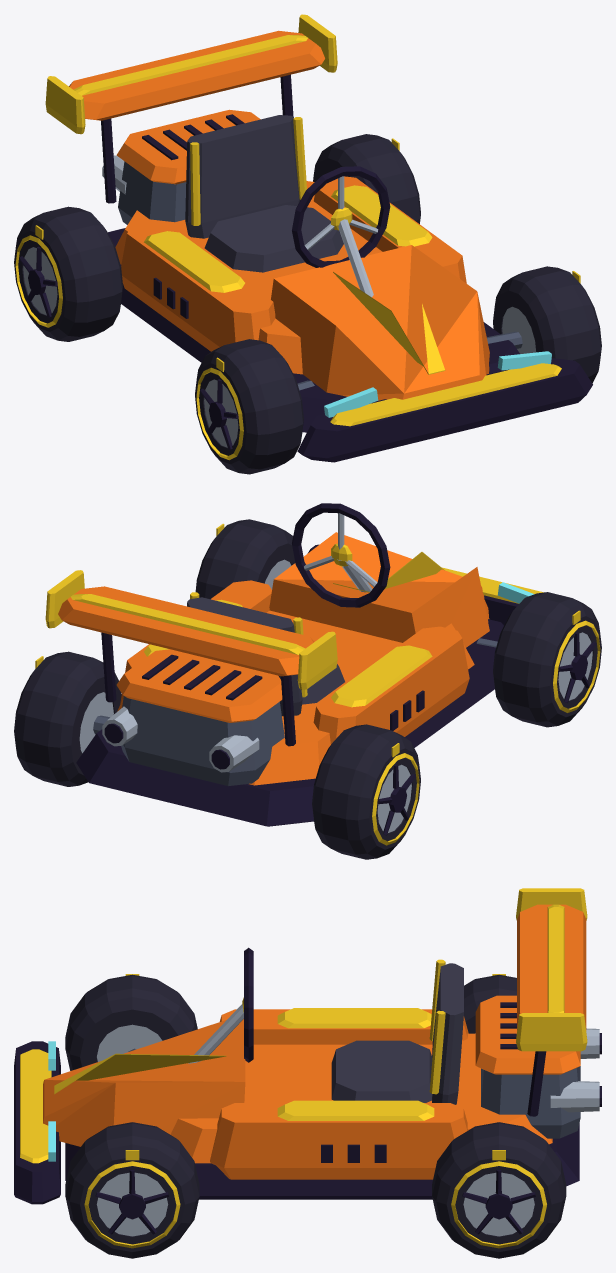
The model's file is kart.glb.
3 views of the same model, one above another, from view 1: azimuth 30°, elevation 25°; view 2: azimuth 150°, elevation 25°; view 3: azimuth 270°, elevation 25° (orthographic).
Parts seen in each view (by area): view 1: surface_paint, surface_accent (×3), surface_chassis (×3), surface_seat_fabric, wheel_rr, wheel_fr, wheel_fl, wheel_rl, surface_engine, steering_wheel, surface_alloy (×2), surface_lamp; view 2: surface_paint, surface_chassis (×3), surface_accent (×3), wheel_fr, wheel_rr, wheel_rl, surface_engine, wheel_fl, steering_wheel, surface_alloy (×2), surface_seat_fabric; view 3: surface_paint, surface_accent (×3), surface_chassis (×3), wheel_rl, wheel_fl, surface_seat_fabric, wheel_fr, surface_engine, surface_alloy, wheel_rr, steering_wheel, surface_lamp.
Boxes of the visible parts, <box> form: surface_paint: <box>69,30,489,400</box>; surface_accent (×3): <box>15,14,561,460</box>; surface_chassis (×3): <box>19,74,592,462</box>; surface_seat_fabric: <box>185,115,343,272</box>; wheel_rr: <box>14,206,122,341</box>; wheel_fr: <box>195,339,303,474</box>; wheel_fl: <box>493,266,601,383</box>; wheel_rl: <box>313,134,420,223</box>; surface_engine: <box>118,161,522,390</box>; steering_wheel: <box>292,166,390,267</box>; surface_alloy (×2): <box>102,155,378,297</box>; surface_lamp: <box>324,351,551,417</box>; surface_paint: <box>58,532,489,785</box>; surface_chassis (×3): <box>76,544,596,835</box>; surface_accent (×3): <box>45,552,600,845</box>; wheel_fr: <box>493,592,601,727</box>; wheel_rr: <box>312,724,420,859</box>; wheel_rl: <box>14,651,121,786</box>; surface_engine: <box>93,638,497,786</box>; wheel_fl: <box>195,519,295,599</box>; steering_wheel: <box>292,503,390,607</box>; surface_alloy (×2): <box>102,513,377,772</box>; surface_seat_fabric: <box>187,597,344,716</box>; surface_paint: <box>43,904,586,1179</box>; surface_accent (×3): <box>20,888,587,1248</box>; surface_chassis (×3): <box>14,1002,601,1234</box>; wheel_rl: <box>432,1122,566,1258</box>; wheel_fl: <box>65,1122,199,1258</box>; surface_seat_fabric: <box>331,963,463,1104</box>; wheel_fr: <box>65,974,197,1070</box>; surface_engine: <box>128,1048,580,1138</box>; surface_alloy: <box>188,1004,599,1112</box>; wheel_rr: <box>464,974,516,1033</box>; steering_wheel: <box>244,947,253,1062</box>; surface_lamp: <box>48,1041,55,1161</box>.
Bounding box in the file's own units: 1.91 × 1.11 × 2.63.
